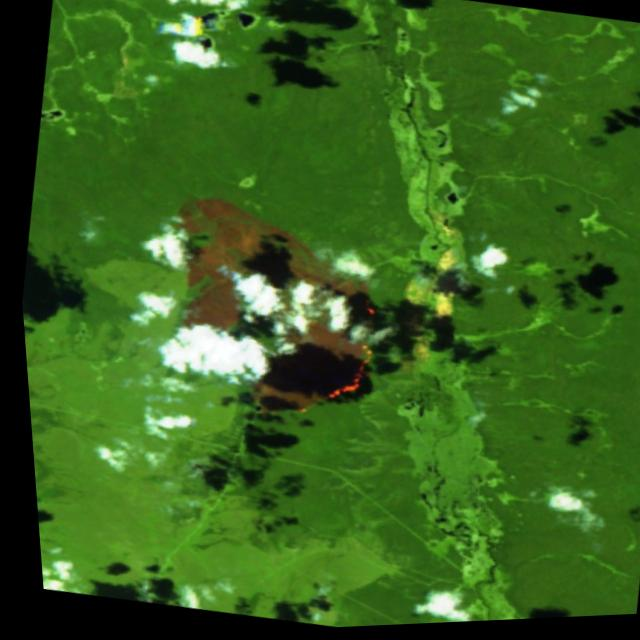fire: (307, 292, 385, 415), (160, 12, 208, 45)
